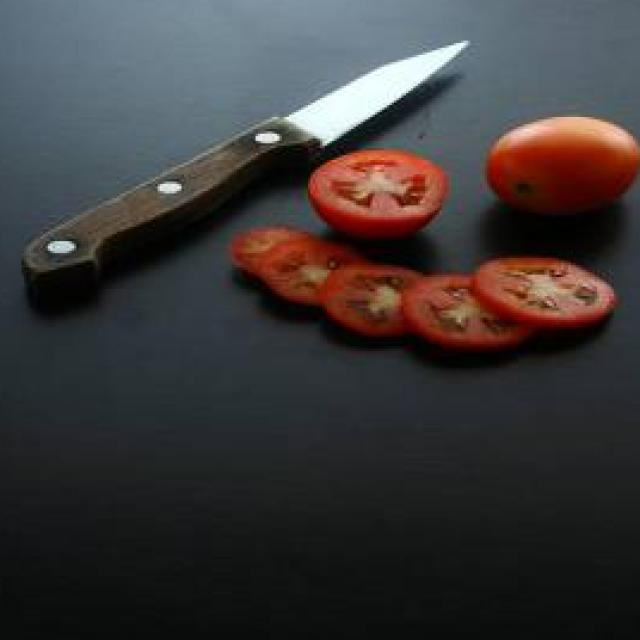knife: (17, 36, 474, 295)
